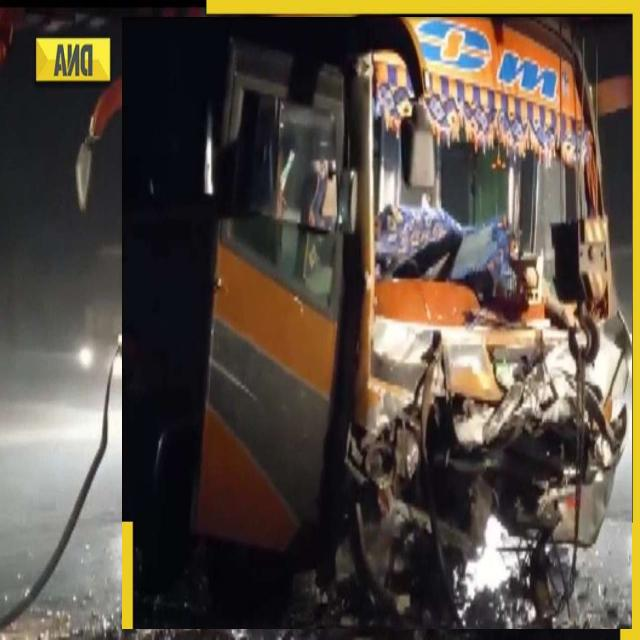accident: (122, 18, 631, 629)
